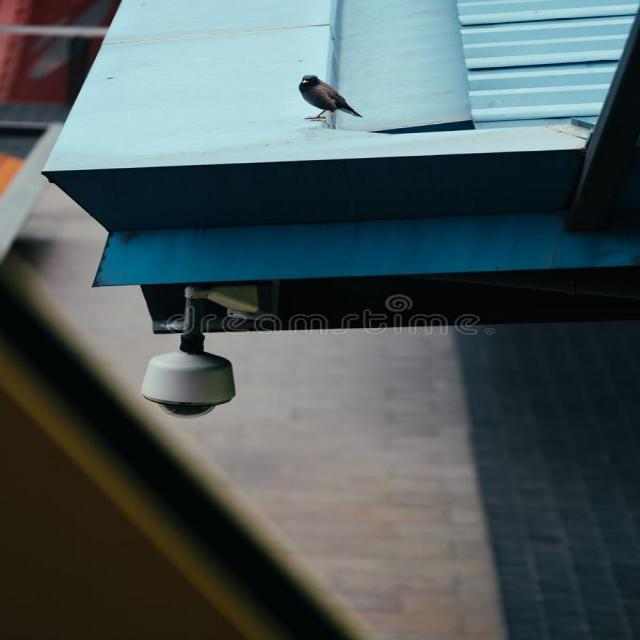bird: (298, 74, 363, 129)
